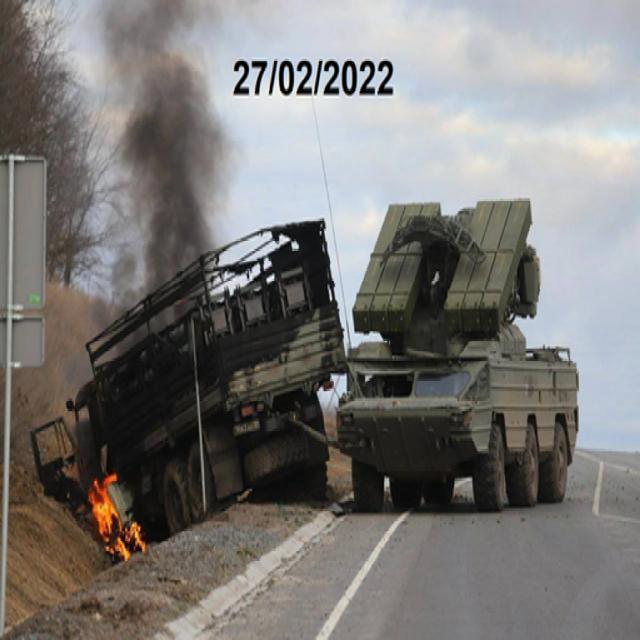MLRS: (335, 194, 577, 514)
TRUCK: (61, 198, 340, 589)
